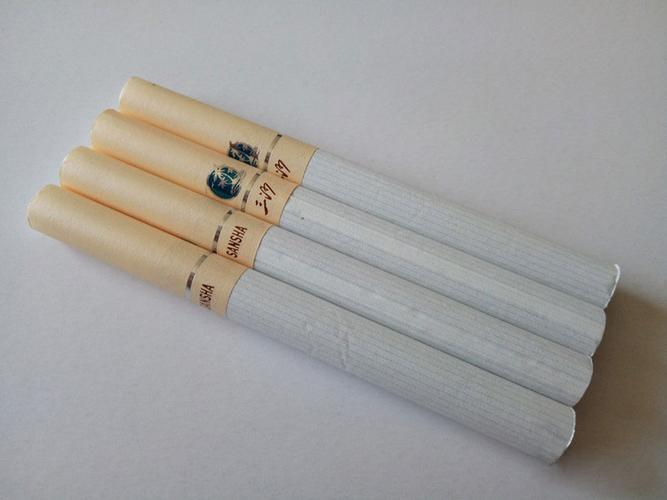smoke: (26, 183, 578, 466), (59, 144, 595, 409), (91, 107, 609, 359), (117, 74, 623, 310)
